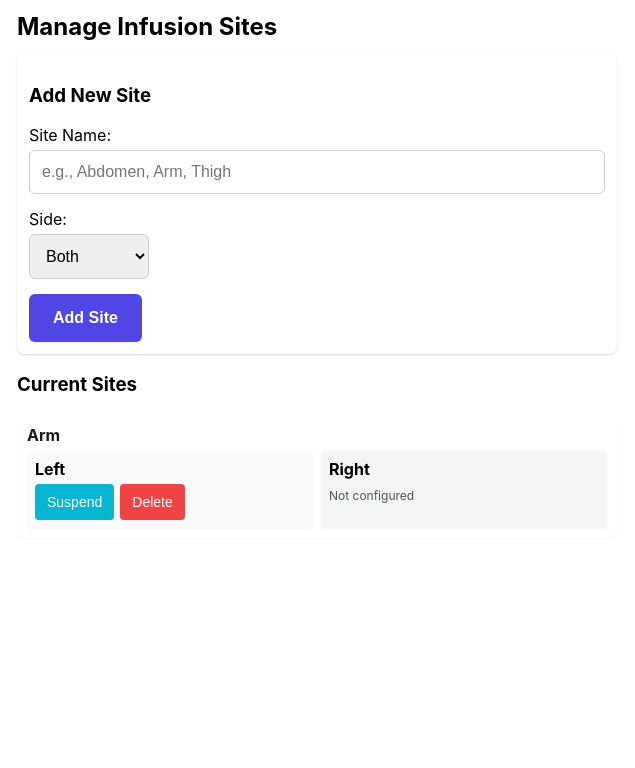
Test: LocationManager - suspension UI › clicking "Until I resume" suspends indefinitely
The image size is (635, 768).
Click the button "Suspend": (75, 502) [35,484,114,520]
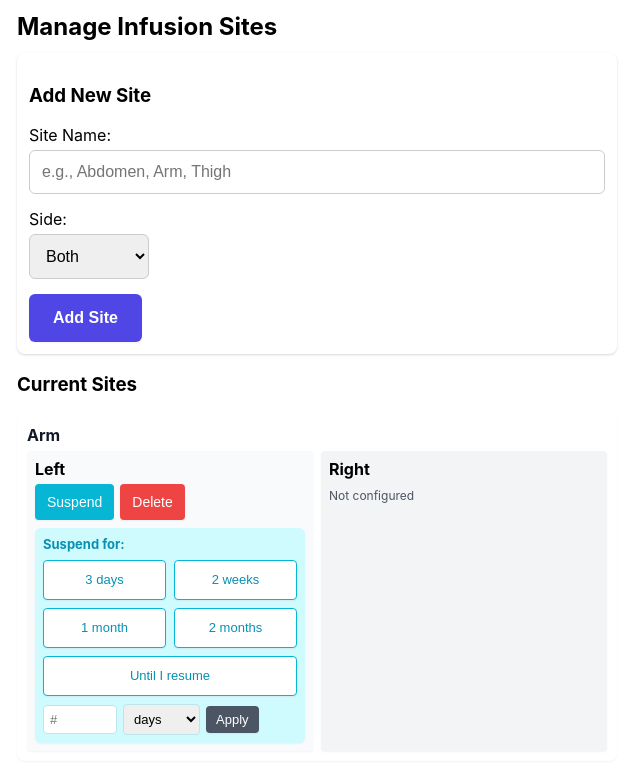
Click the button "Until I resume": (170, 676) [43,656,297,696]
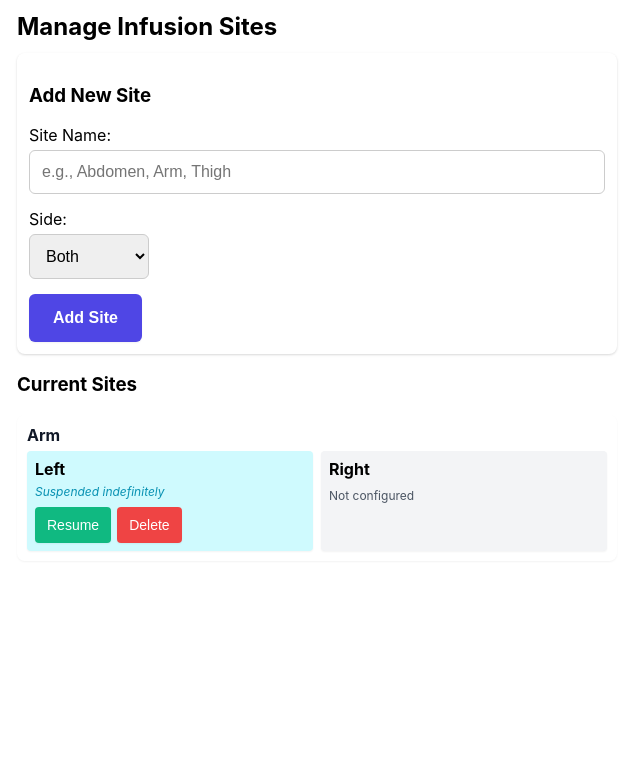
Expected: the text "Suspended indefinitely" is shown, [35,484,165,499]
